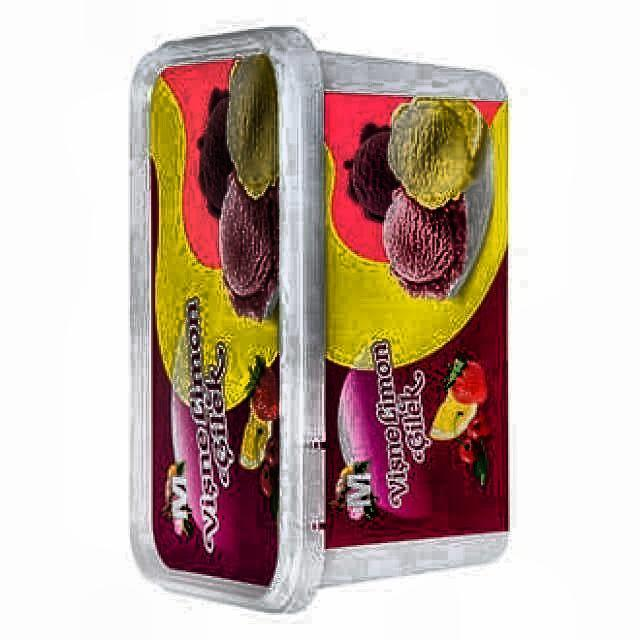plastic: (131, 29, 509, 609)
